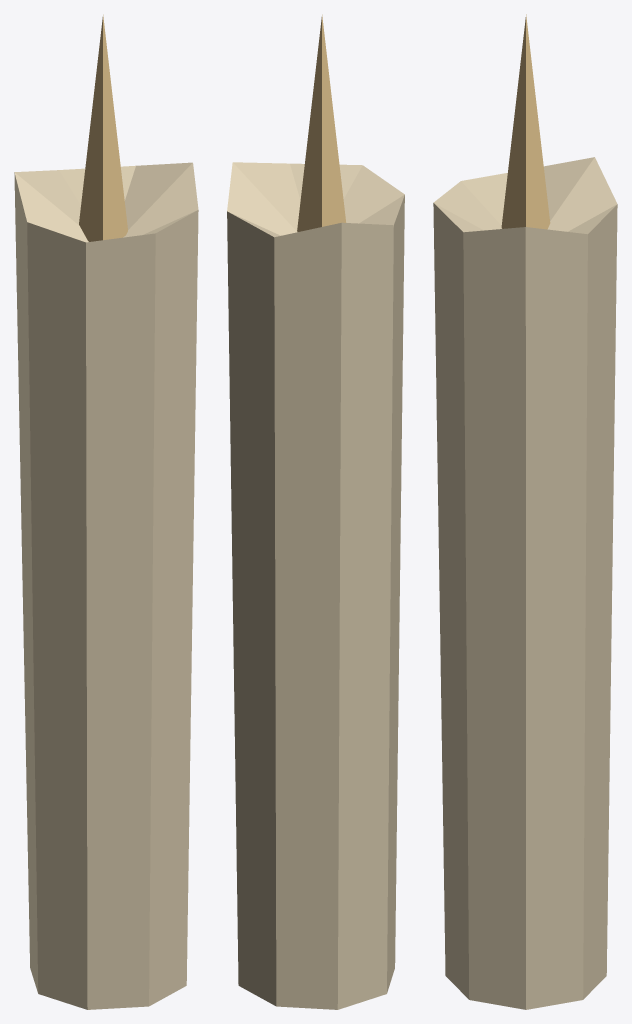
The model's file is Candle_2.fbx.
3 renders of one model, left to right at view 1: azimuth 30°, elevation 25°; view 2: azimuth 150°, elevation 25°; view 3: azimuth 270°, elevation 25°, orthographic.
Visible parts, largest first — view 1: polySurface1503; view 2: polySurface1503; view 3: polySurface1503.
Part boxes in pixels (x1,y1,x2,y2): polySurface1503: (14,14,198,1009); polySurface1503: (227,14,404,1009); polySurface1503: (433,14,617,1009).
Bounding box in the file's own units: 6.61 × 37.25 × 6.48.
